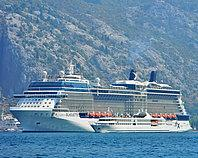Ship: (6, 66, 198, 140)
